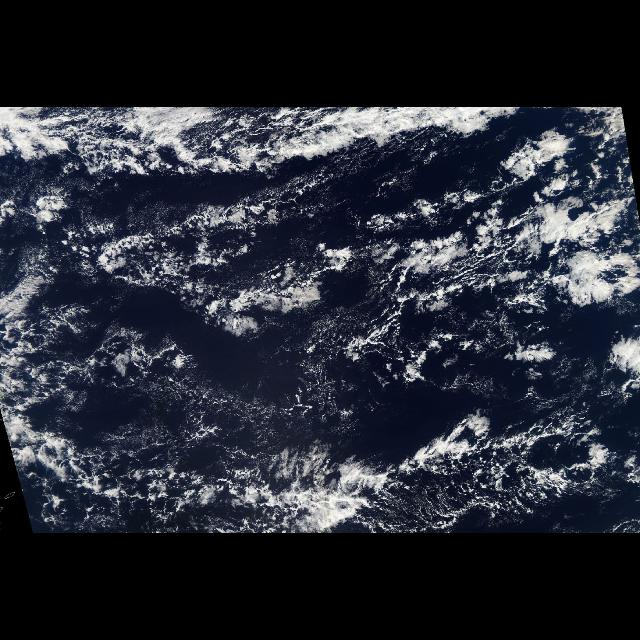Fish: (1, 112, 640, 524)
Sugar: (89, 328, 424, 424)
